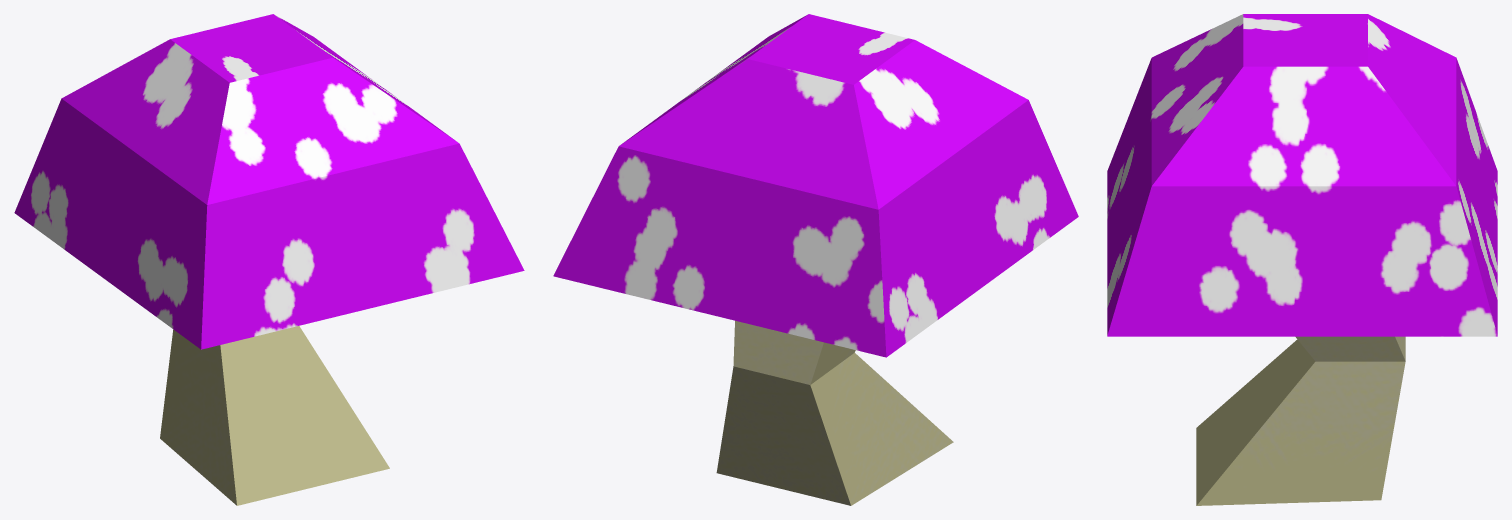
File: mushroom1.fbx
3 renders of one model, left to right at view 1: azimuth 30°, elevation 25°; view 2: azimuth 150°, elevation 25°; view 3: azimuth 270°, elevation 25°, orthographic. The views are drawn at different scales.
Visible parts, largest first — view 1: Cube; view 2: Cube; view 3: Cube.
Part boxes in pixels (x1,y1,x2,y2): Cube: (14,14,524,505); Cube: (553,14,1078,505); Cube: (1107,14,1497,505).
Bounding box in the file's own units: 357 × 425 × 357.
